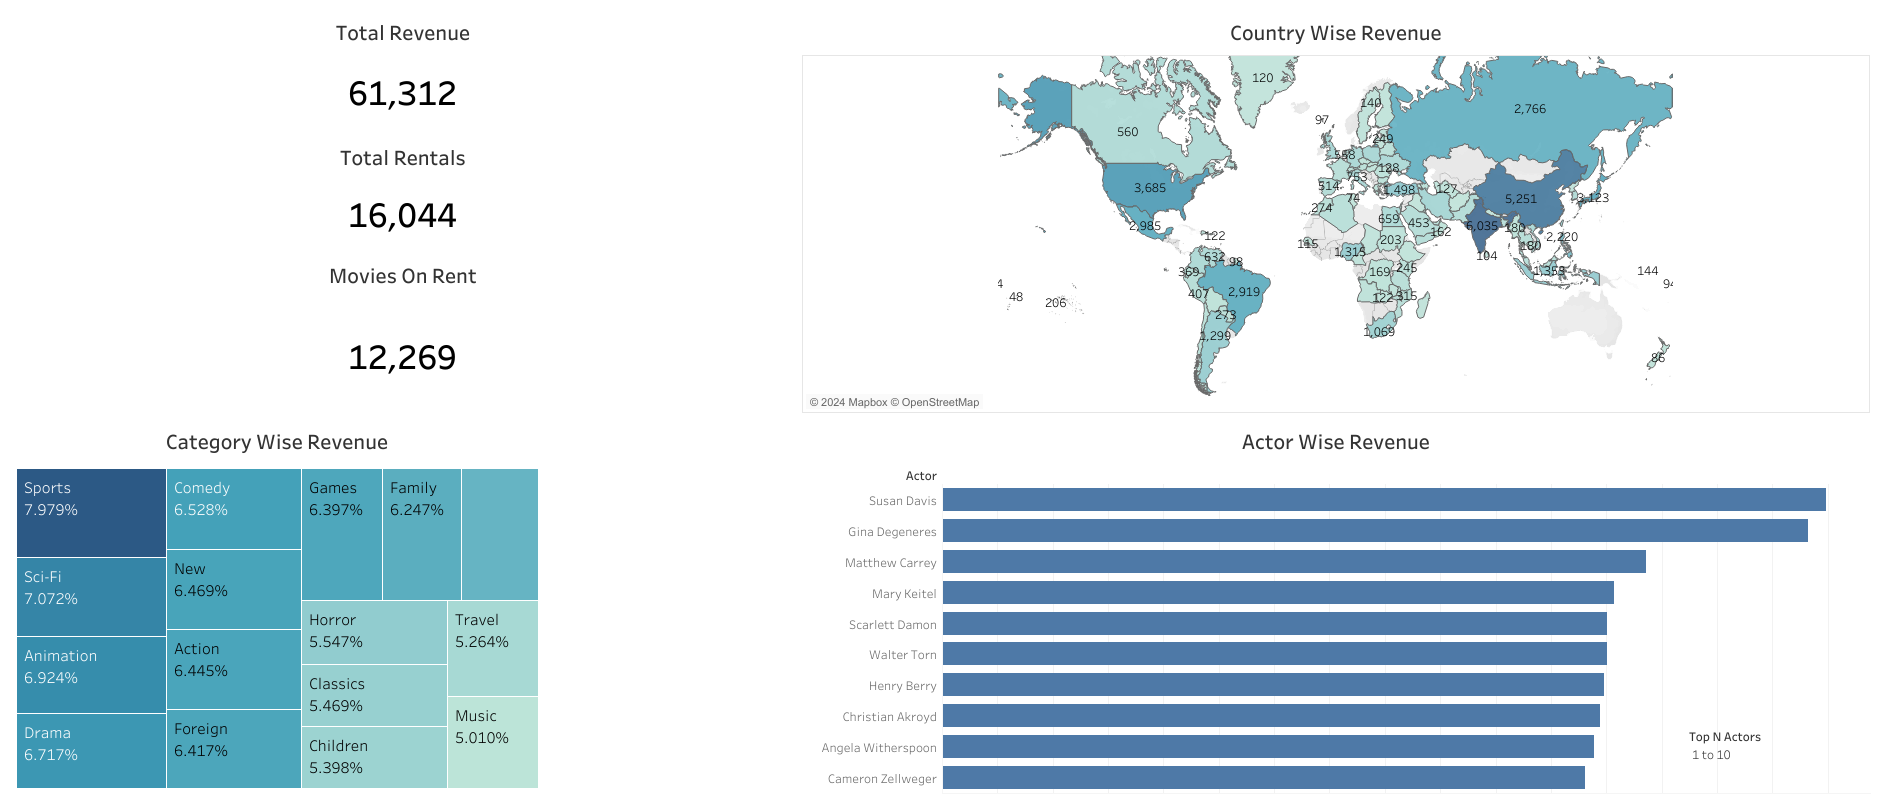

The page's visual inventory and layout, read from the dashboard file:
{"tool":"tableau","page":{"name":"Dashboard 1","canvas":[1000,1000],"units":"permille","ordinal":0},"visuals":[{"type":"worksheet","title":"Total Revenue","mark":"Automatic","box":[4.9,8.9,419.4,155.1]},{"type":"worksheet","title":"Country Wise Revenue","mark":"Automatic","box":[424.2,8.9,570.9,508.9]},{"type":"worksheet","title":"Total Rentals","mark":"Automatic","box":[4.9,164.1,419.4,147.3]},{"type":"worksheet","title":"Movies ON Rent","mark":"Automatic","box":[4.9,311.4,419.4,206.5]},{"type":"worksheet","title":"Category Wise Revenue","mark":"Automatic","box":[4.9,517.9,419.4,473.2]},{"type":"worksheet","title":"Actor Wise Revenue","mark":"Automatic","rows":["actor"],"cols":["total_revenue"],"box":[424.2,517.9,570.9,473.2]},{"type":"filter","title":"Actor Wise Revenue","param":"[federated.1ff0enh0p8zh7819pginp06fn6ik].[rank:sum:total_revenue:qk]","box":[895.1,897.3,97,75.9]}]}

Visuals, with their boxes on the dashboard's canvas, which has no fixed pixel size, in thousandths of its width and height (x1, y1, x2, y2). These are canvas units, not pixel positions in the 1881x804 screenshot, which may show the page scaled, cropped or inside an application window:
"Total Revenue" worksheet: detection(5, 9, 424, 164)
"Country Wise Revenue" worksheet: detection(424, 9, 995, 518)
"Total Rentals" worksheet: detection(5, 164, 424, 311)
"Movies ON Rent" worksheet: detection(5, 311, 424, 518)
"Category Wise Revenue" worksheet: detection(5, 518, 424, 991)
"Actor Wise Revenue" worksheet: detection(424, 518, 995, 991)
"Actor Wise Revenue" filter: detection(895, 897, 992, 973)
